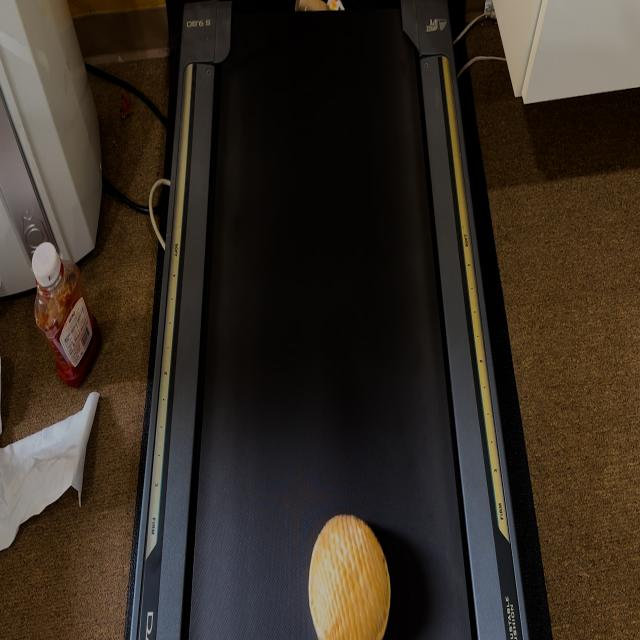Recycle: (308, 511, 392, 640)
